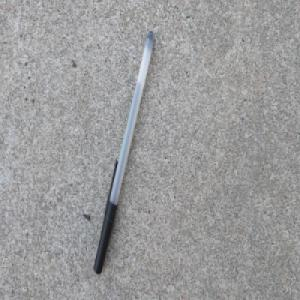Pen: (92, 29, 156, 275)
